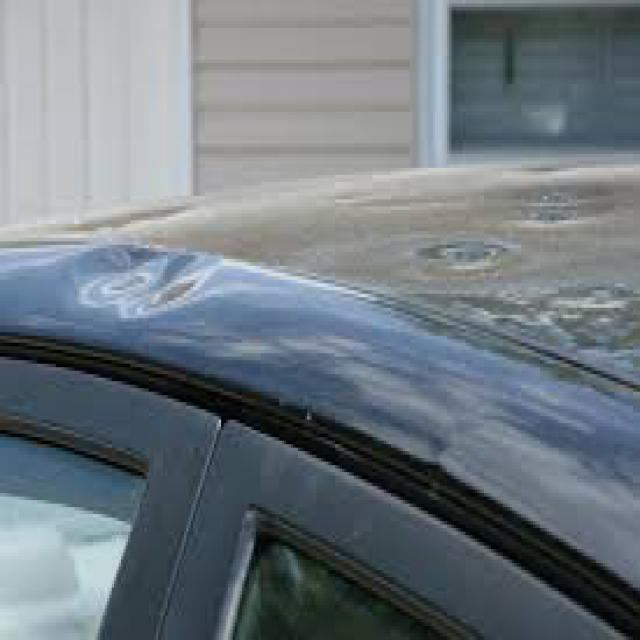roof-dent: (0, 188, 387, 462), (358, 165, 638, 539)
